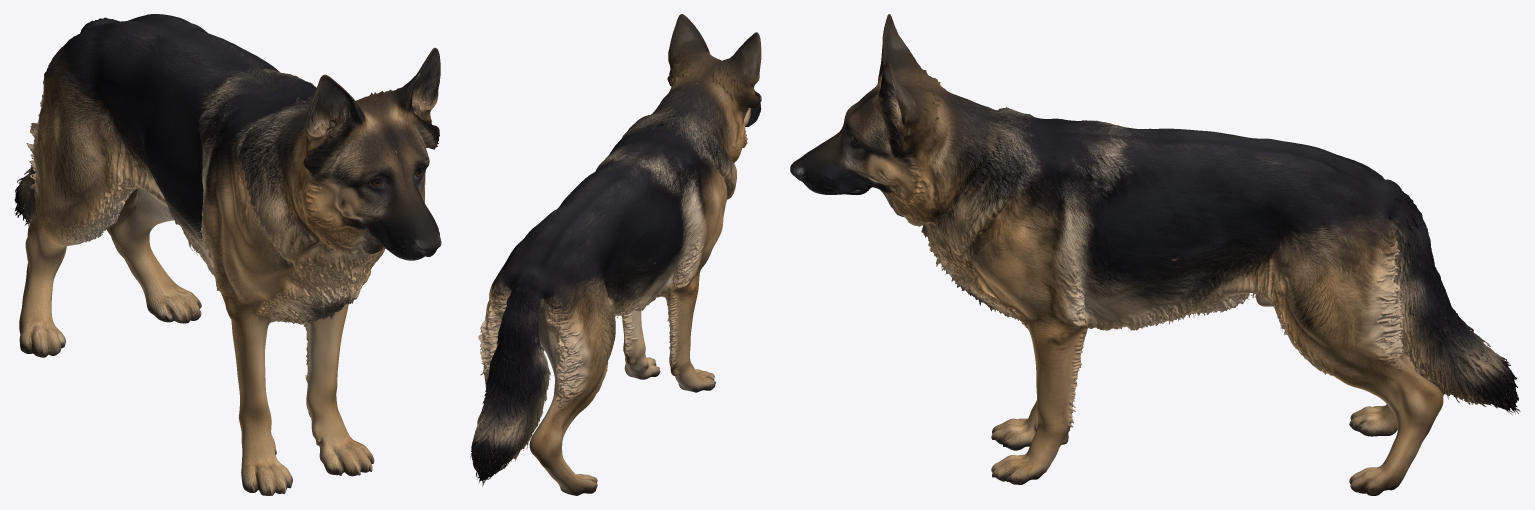
3 renders of one model, left to right at view 1: azimuth 30°, elevation 25°; view 2: azimuth 150°, elevation 25°; view 3: azimuth 270°, elevation 25°, orthographic. The views are drawn at different scales.
Parts seen in each view (by area): view 1: mesh_0; view 2: mesh_0; view 3: mesh_0.
Part boxes in pixels (bbox=[...]): mesh_0: bbox=[14, 14, 441, 495]; mesh_0: bbox=[470, 14, 761, 495]; mesh_0: bbox=[790, 14, 1520, 495].
Size of the model in its own units: 0.4746 by 1.21 by 1.89.
1 material, 1 textured.
